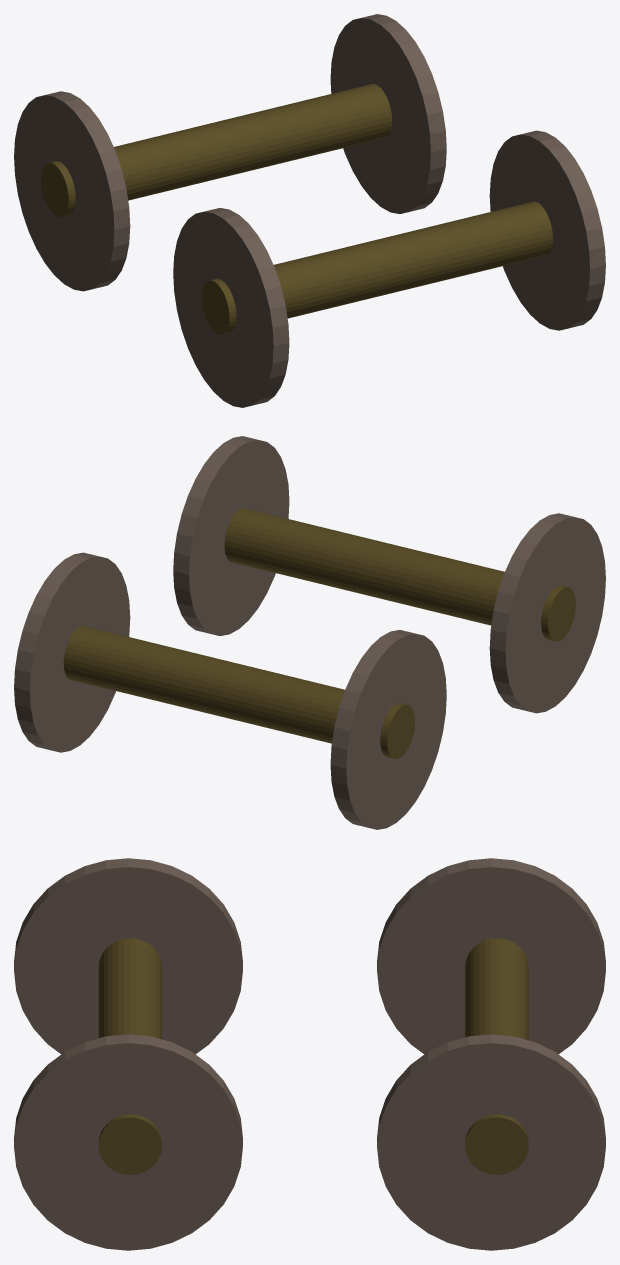
The model's file is wooden-wheels.dae.
3 renders of one model, top to bottom at view 1: azimuth 30°, elevation 25°; view 2: azimuth 150°, elevation 25°; view 3: azimuth 270°, elevation 25°, orthographic. The views are drawn at different scales.
Visible parts, largest first — view 1: Cylinder_004_001, Cylinder_005_001, Cylinder_004_004, Cylinder_004_005, Cylinder_004_003, Cylinder_004_002; view 2: Cylinder_005_001, Cylinder_004_001, Cylinder_004_004, Cylinder_004_005, Cylinder_004_002, Cylinder_004_003; view 3: Cylinder_004_003, Cylinder_004_002, Cylinder_004_005, Cylinder_004_004, Cylinder_005_001, Cylinder_004_001.
Boxes of the visible parts, left/top/right/bottom form: Cylinder_004_001: left=201, top=201, right=552, bottom=334; Cylinder_005_001: left=41, top=84, right=392, bottom=216; Cylinder_004_004: left=14, top=91, right=130, bottom=291; Cylinder_004_005: left=173, top=208, right=289, bottom=407; Cylinder_004_003: left=330, top=14, right=446, bottom=213; Cylinder_004_002: left=489, top=130, right=605, bottom=330; Cylinder_005_001: left=63, top=626, right=414, bottom=759; Cylinder_004_001: left=224, top=508, right=575, bottom=641; Cylinder_004_004: left=330, top=630, right=446, bottom=829; Cylinder_004_005: left=489, top=513, right=605, bottom=713; Cylinder_004_002: left=173, top=436, right=289, bottom=635; Cylinder_004_003: left=14, top=552, right=130, bottom=752; Cylinder_004_003: left=377, top=1034, right=605, bottom=1250; Cylinder_004_002: left=14, top=1034, right=242, bottom=1250; Cylinder_004_005: left=14, top=858, right=242, bottom=1054; Cylinder_004_004: left=377, top=858, right=605, bottom=1054; Cylinder_005_001: left=465, top=938, right=528, bottom=1174; Cylinder_004_001: left=98, top=938, right=161, bottom=1174.
Bounding box in the file's own units: 1.13 × 1.47 × 0.5702.
